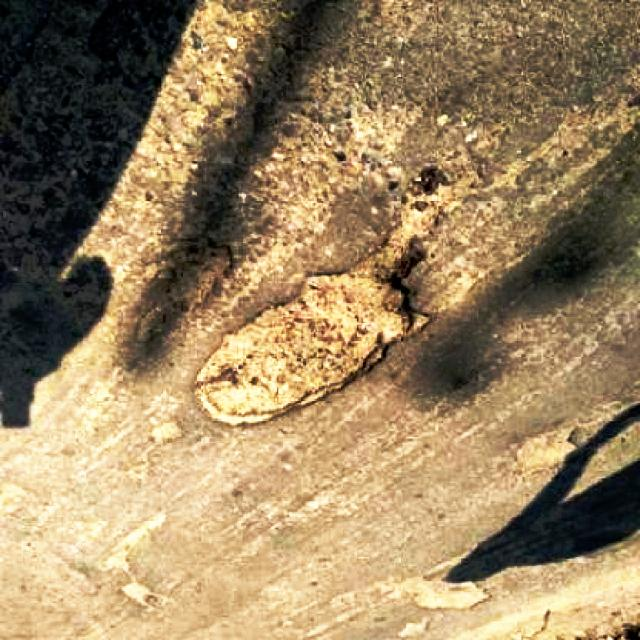pothole: (194, 172, 471, 426), (171, 235, 237, 312), (408, 574, 489, 615)
